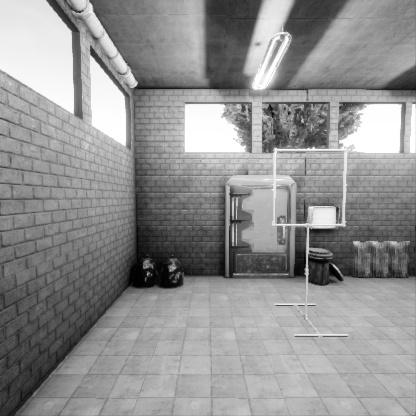gate: (273, 192, 352, 270)
